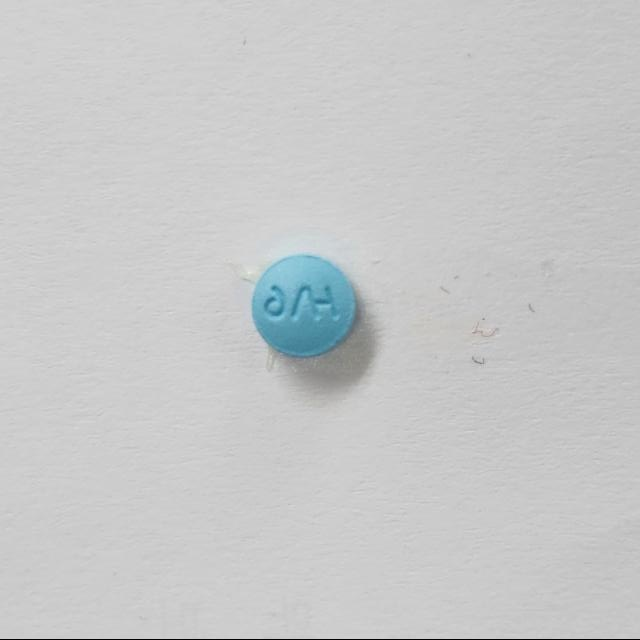pill: (248, 244, 364, 362)
